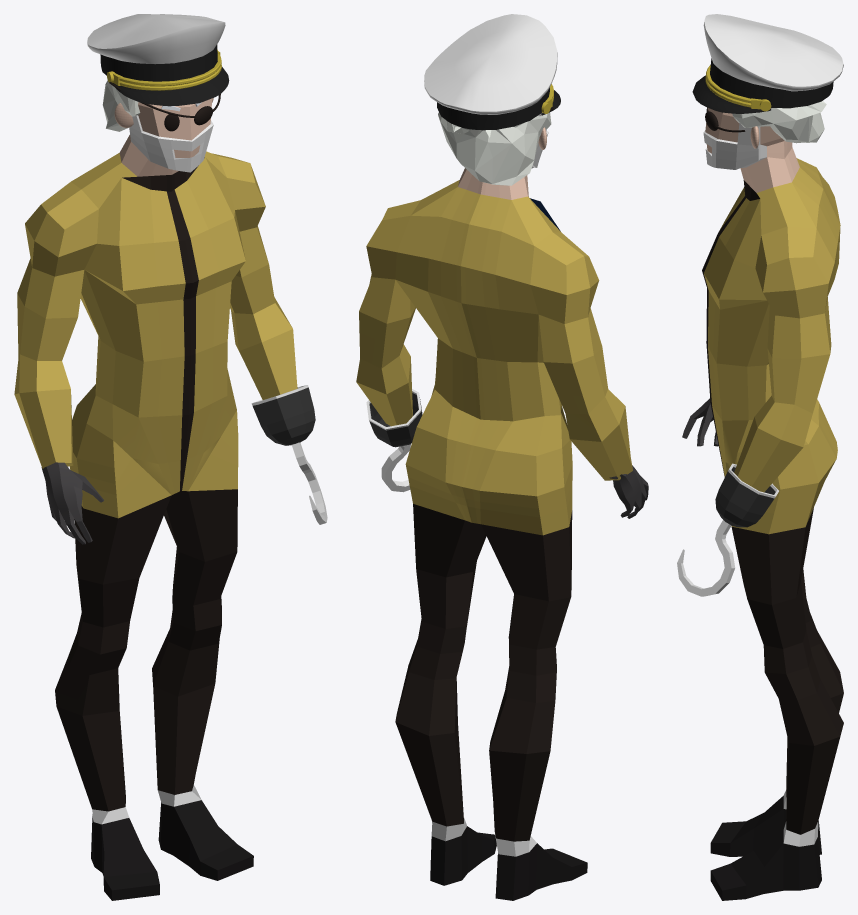
File: fisher.fbx
The picture shows the model from 3 angles, left to right: view 1: azimuth 30°, elevation 25°; view 2: azimuth 150°, elevation 25°; view 3: azimuth 270°, elevation 25°; orthographic projection. The views are drawn at different scales.
Visible parts, largest first — view 1: Cube.002, Nazi_Hat, pirate hook, bodyMesh.001_lowman_toes.030, Sphere.002; view 2: Cube.002, Nazi_Hat, Sphere.002, pirate hook, bodyMesh.001_lowman_toes.030; view 3: Cube.002, Nazi_Hat, pirate hook, Sphere.002, bodyMesh.001_lowman_toes.030.
Part boxes in pixels (x1=…): Cube.002: x1=14, y1=98, x2=297, y2=900; Nazi_Hat: x1=87, y1=14, x2=229, y2=106; pirate hook: x1=251, y1=385, x2=327, y2=524; bodyMesh.001_lowman_toes.030: x1=41, y1=462, x2=103, y2=544; Sphere.002: x1=102, y1=80, x2=140, y2=131; Cube.002: x1=356, y1=130, x2=632, y2=900; Nazi_Hat: x1=424, y1=14, x2=560, y2=130; Sphere.002: x1=438, y1=112, x2=551, y2=185; pirate hook: x1=366, y1=389, x2=422, y2=492; bodyMesh.001_lowman_toes.030: x1=609, y1=465, x2=648, y2=518; Cube.002: x1=702, y1=108, x2=843, y2=900; Nazi_Hat: x1=692, y1=14, x2=843, y2=113; pirate hook: x1=677, y1=463, x2=778, y2=596; Sphere.002: x1=732, y1=101, x2=826, y2=143; bodyMesh.001_lowman_toes.030: x1=682, y1=398, x2=718, y2=446.
Size of the model in its own units: 58.24 by 176 by 31.38.
